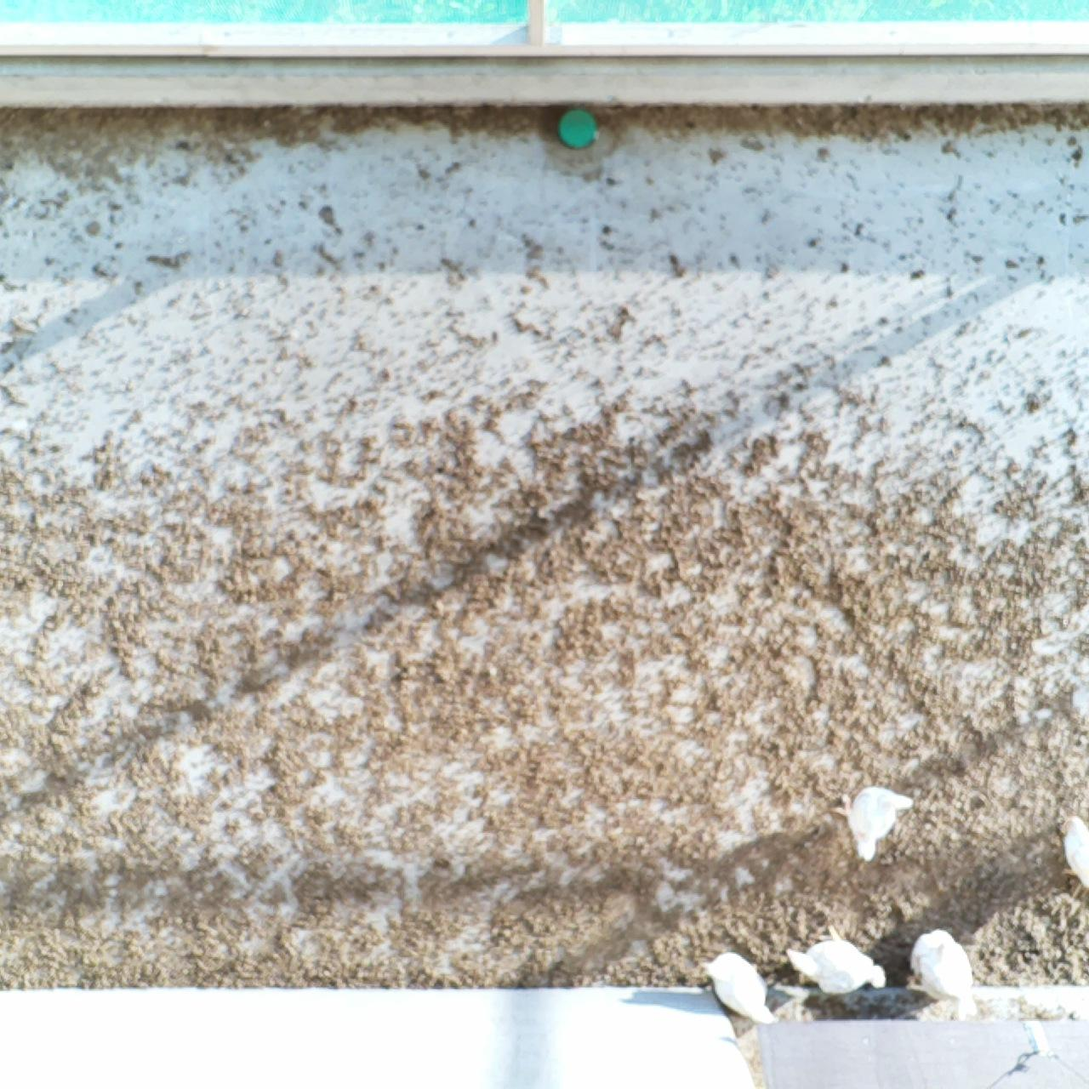chicken: (783, 926, 890, 999), (829, 785, 914, 865), (905, 925, 977, 1011), (699, 948, 777, 1025), (1052, 811, 1089, 897)
